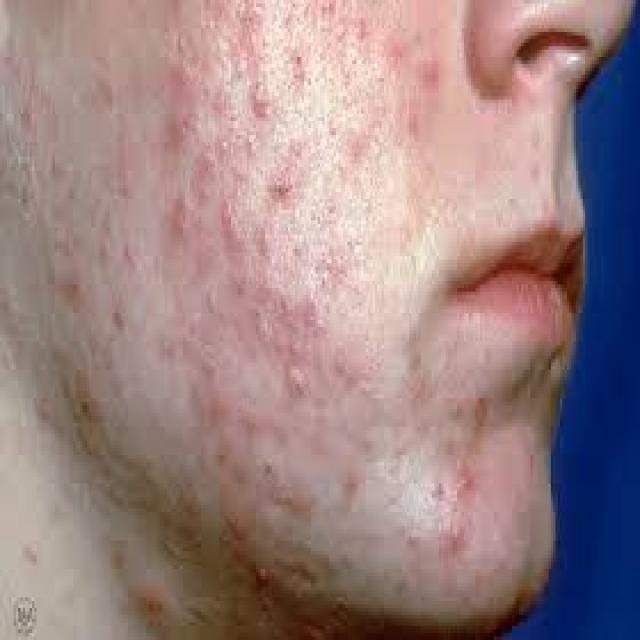Acne: (122, 12, 371, 413), (439, 465, 484, 563)
